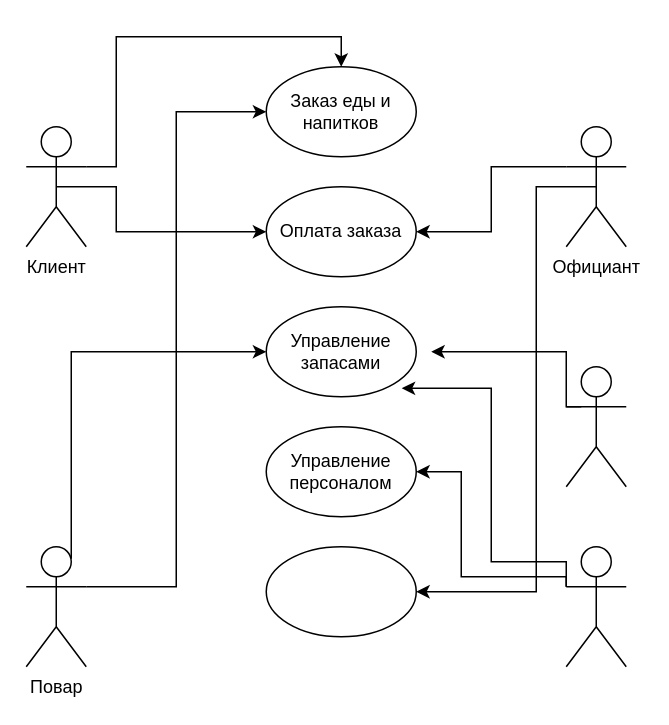
Some shapes in this 669 by 725 pixel diagram are drawn without their labels. The centre of each missing label's shape, as x and y in pixels:
Менеджер: (x=595, y=606)
Обслуживание клиентов: (x=340, y=591)
Поставщик: (x=595, y=426)
